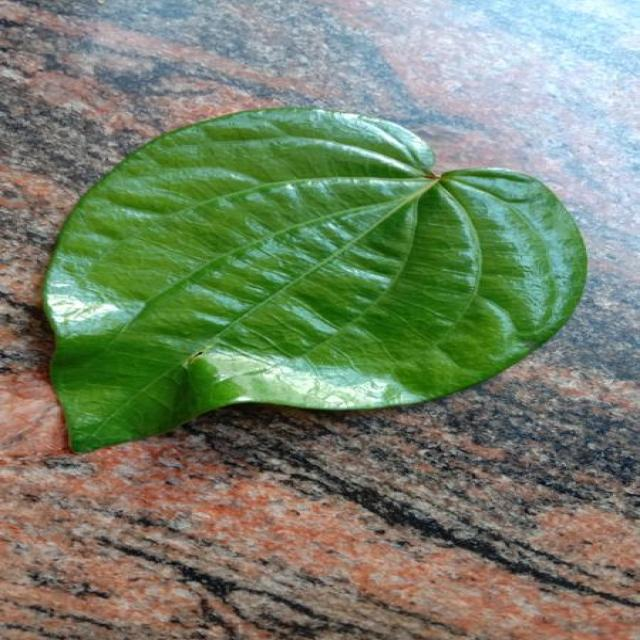betel: (45, 108, 585, 452)
